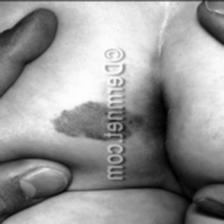Potentially Malignant Skin Tumors: (50, 98, 106, 142), (122, 107, 145, 141)
